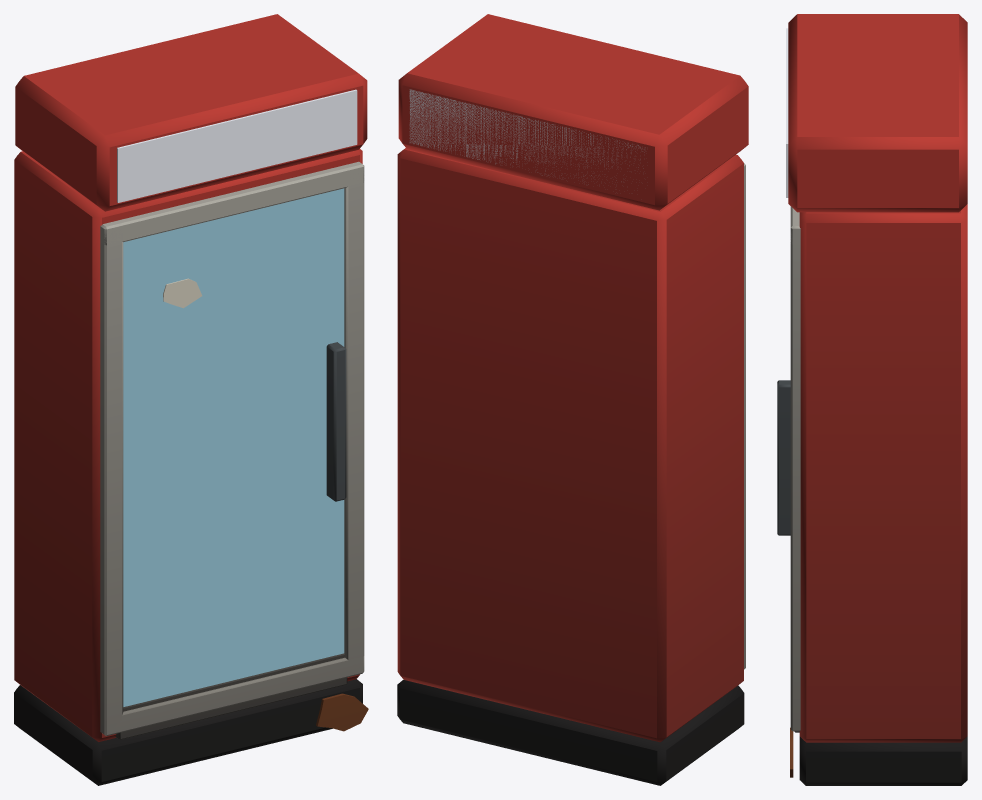
File: 50_frigo_vitre.fbx
3 renders of one model, left to right at view 1: azimuth 30°, elevation 25°; view 2: azimuth 150°, elevation 25°; view 3: azimuth 270°, elevation 25°, orthographic.
Parts seen in each view (by area): view 1: Caisson, Vitre, Porte, Lumiere; view 2: Caisson, Lumiere, Porte; view 3: Caisson, Porte, Lumiere.
Boxes of the visible parts, <box> form: Caisson: <box>14,14,368,785</box>; Vitre: <box>123,188,344,706</box>; Porte: <box>100,161,364,735</box>; Lumiere: <box>117,89,357,202</box>; Caisson: <box>397,14,748,785</box>; Lumiere: <box>409,89,645,184</box>; Porte: <box>744,163,745,669</box>; Caisson: <box>788,14,967,785</box>; Porte: <box>777,206,800,731</box>; Lumiere: <box>786,28,788,197</box>.
Size of the model in its own units: 0.728 by 1.68 by 0.448.
1 material, 1 textured.
